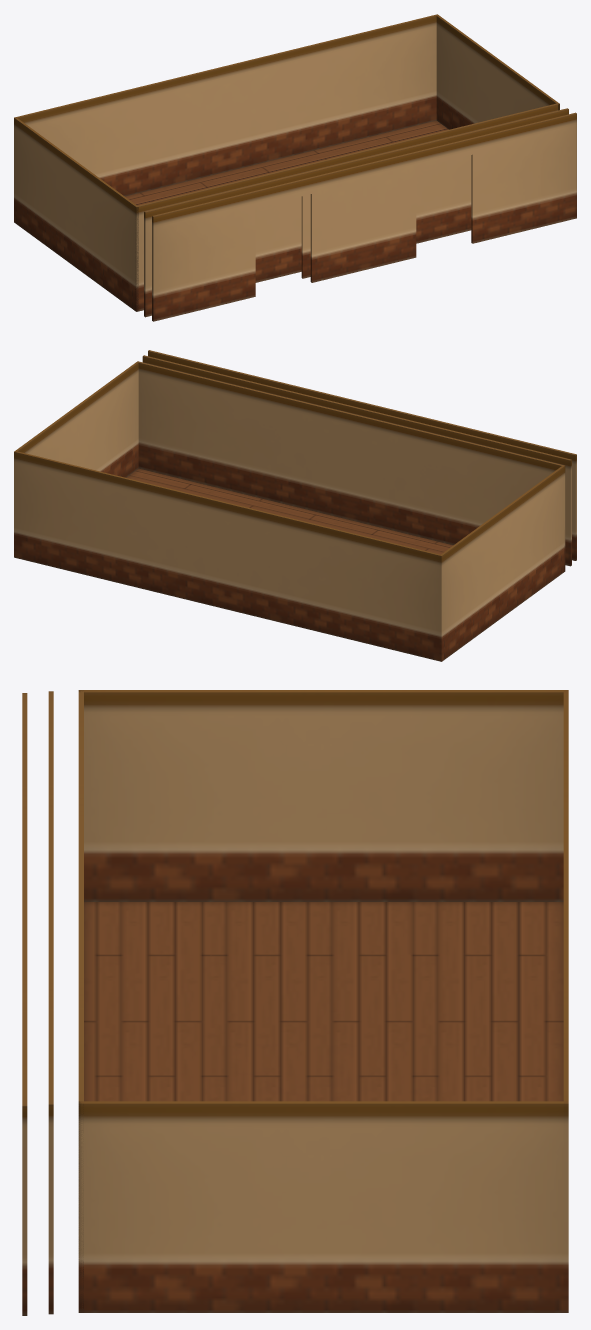
File: Room_02.FBX
The picture shows the model from 3 angles, top to bottom: view 1: azimuth 30°, elevation 25°; view 2: azimuth 150°, elevation 25°; view 3: azimuth 270°, elevation 25°; orthographic projection. The views are drawn at different scales.
Parts seen in each view (by area): view 1: Room2_wall005, Wall_Door_02_single001, Room2_wall006, Room2_wall008, Room2_wall007, Wall_Door_02_double001, Room2_floor001; view 2: Room2_wall005, Room2_wall008, Room2_wall006, Room2_wall007, Wall_Door_02_double001, Room2_floor001, Wall_Door_02_single001; view 3: Room2_wall007, Room2_wall006, Room2_floor001, Wall_Door_02_double001, Wall_Door_02_single001, Room2_wall005, Room2_wall008.
Boxes of the visible parts, box(x1,y1,x2,y2) form: Room2_wall005: box(14, 14, 438, 222); Wall_Door_02_single001: box(152, 112, 576, 321); Room2_wall006: box(14, 117, 138, 311); Room2_wall008: box(135, 103, 559, 311); Room2_wall007: box(436, 14, 559, 129); Wall_Door_02_double001: box(144, 108, 568, 317); Room2_floor001: box(125, 120, 448, 205); Room2_wall005: box(14, 451, 442, 661); Room2_wall008: box(137, 361, 565, 571); Room2_wall006: box(439, 466, 565, 661); Room2_wall007: box(14, 362, 138, 556); Wall_Door_02_double001: box(142, 355, 571, 566); Room2_floor001: box(126, 468, 452, 554); Wall_Door_02_single001: box(148, 350, 576, 560); Room2_wall007: box(78, 1101, 568, 1312); Room2_wall006: box(78, 690, 567, 901); Room2_floor001: box(84, 902, 563, 1101); Wall_Door_02_double001: box(48, 691, 53, 1314); Wall_Door_02_single001: box(22, 693, 27, 1315); Room2_wall005: box(563, 690, 568, 1312); Room2_wall008: box(78, 690, 83, 1312).
Size of the model in its own units: 389 by 91.45 by 216.
